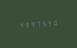five: (41, 19, 46, 27)
four: (17, 21, 22, 29)
nine: (29, 20, 34, 28), (23, 21, 28, 28), (47, 19, 52, 26)
seven: (35, 20, 40, 27)
zero: (53, 18, 58, 26)
